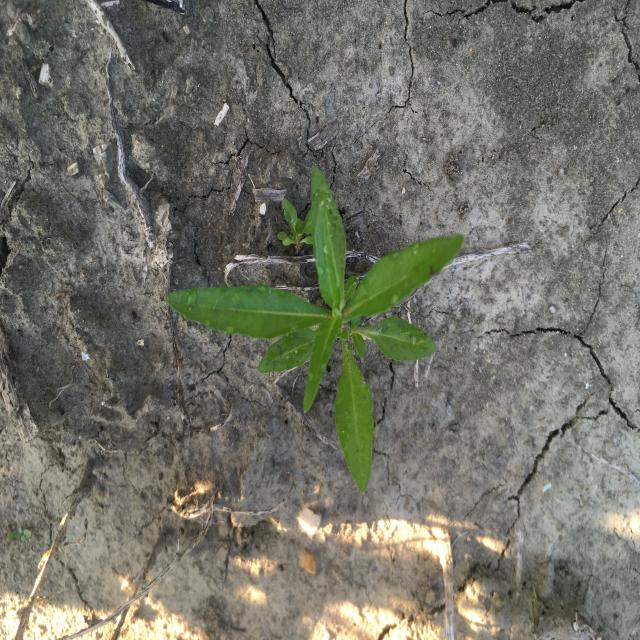Eclipta: (163, 162, 465, 494)
